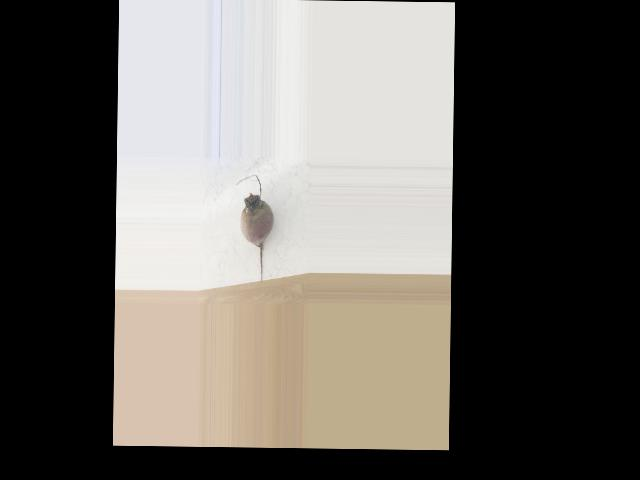beet: (235, 175, 274, 283)
